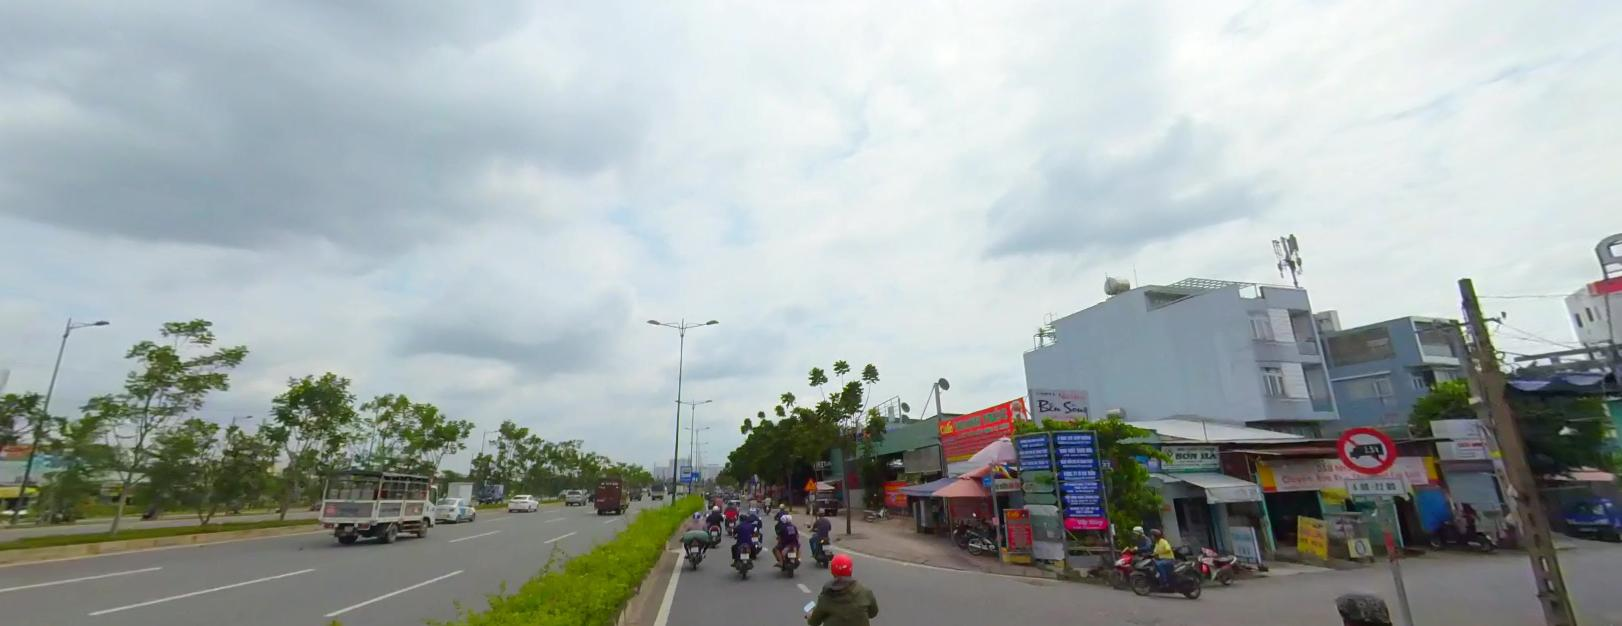Cam con lai: (1333, 424, 1399, 476)
Nguy hiem: (802, 476, 818, 491)
